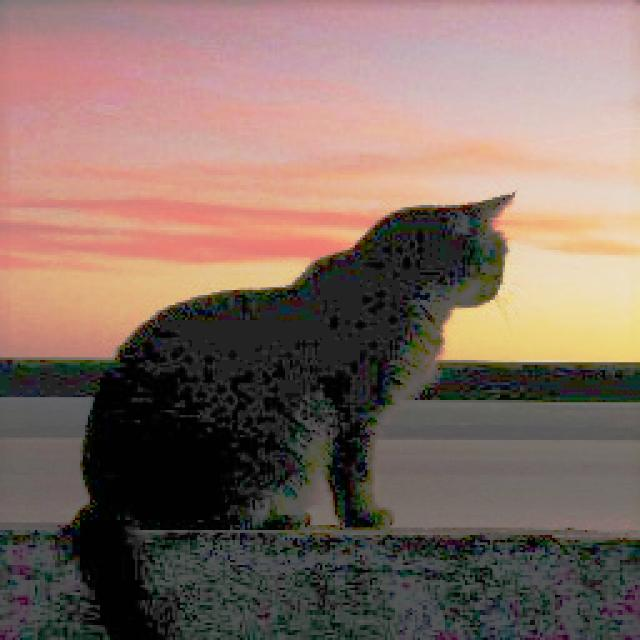cat: (72, 191, 518, 534)
